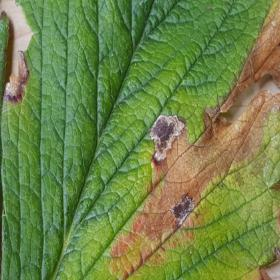Angular Leafspot: (99, 0, 279, 279)
